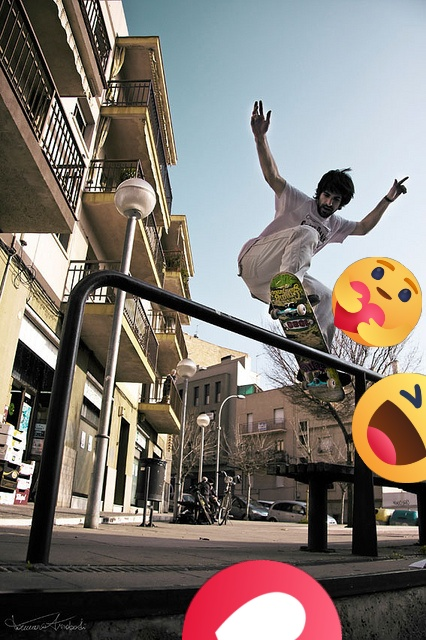care: (332, 257, 422, 347)
haha: (352, 373, 426, 483)
love: (182, 560, 342, 640)
